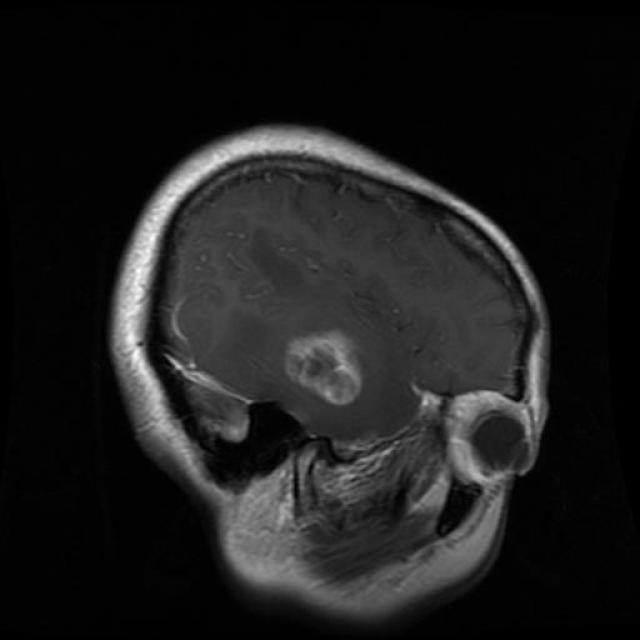glioma: (286, 331, 366, 405)
